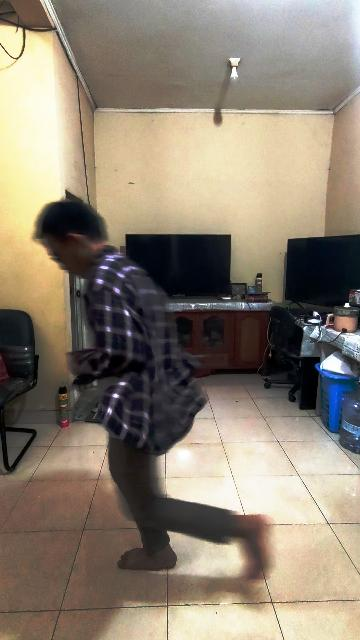berlari: (40, 198, 270, 582)
